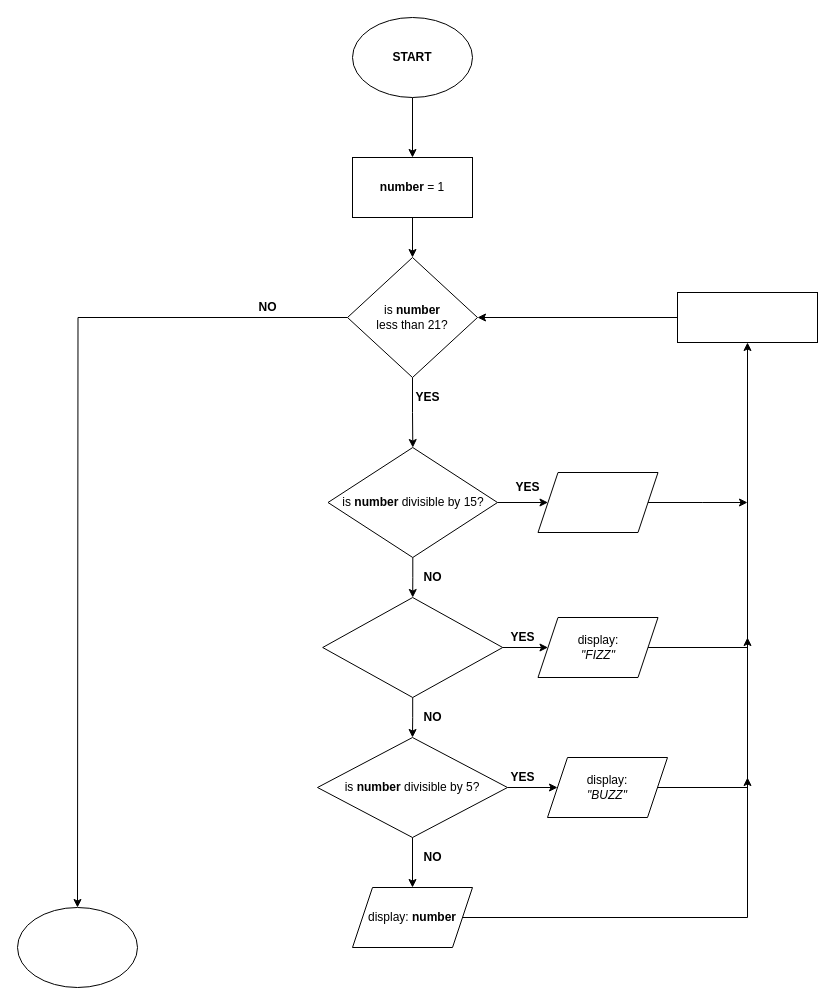
The diagram is 835 pixels wide and 1005 high, and some of its shapes have lost their labels. Each missing label, with the centre of its shape:
display: "FIZZBUZZ": (x=597, y=502)
END: (x=77, y=947)
is number divisible by 3?: (x=412, y=647)
number = number + 1: (x=747, y=317)
